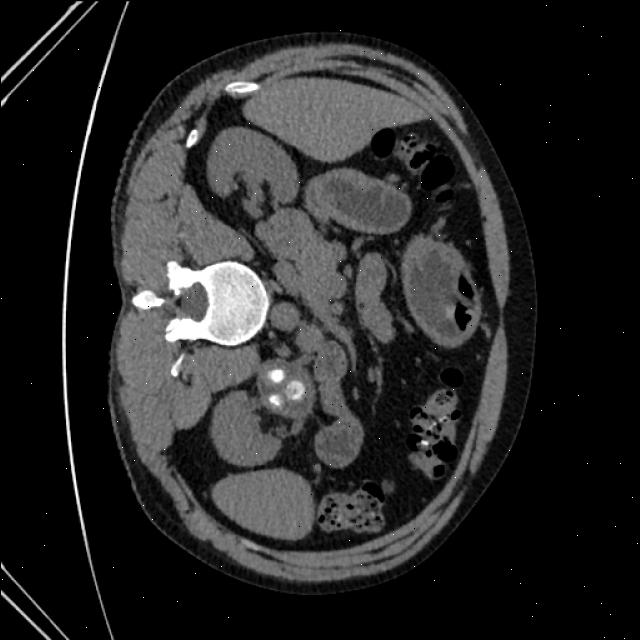kidneystone: (256, 369, 314, 419)
